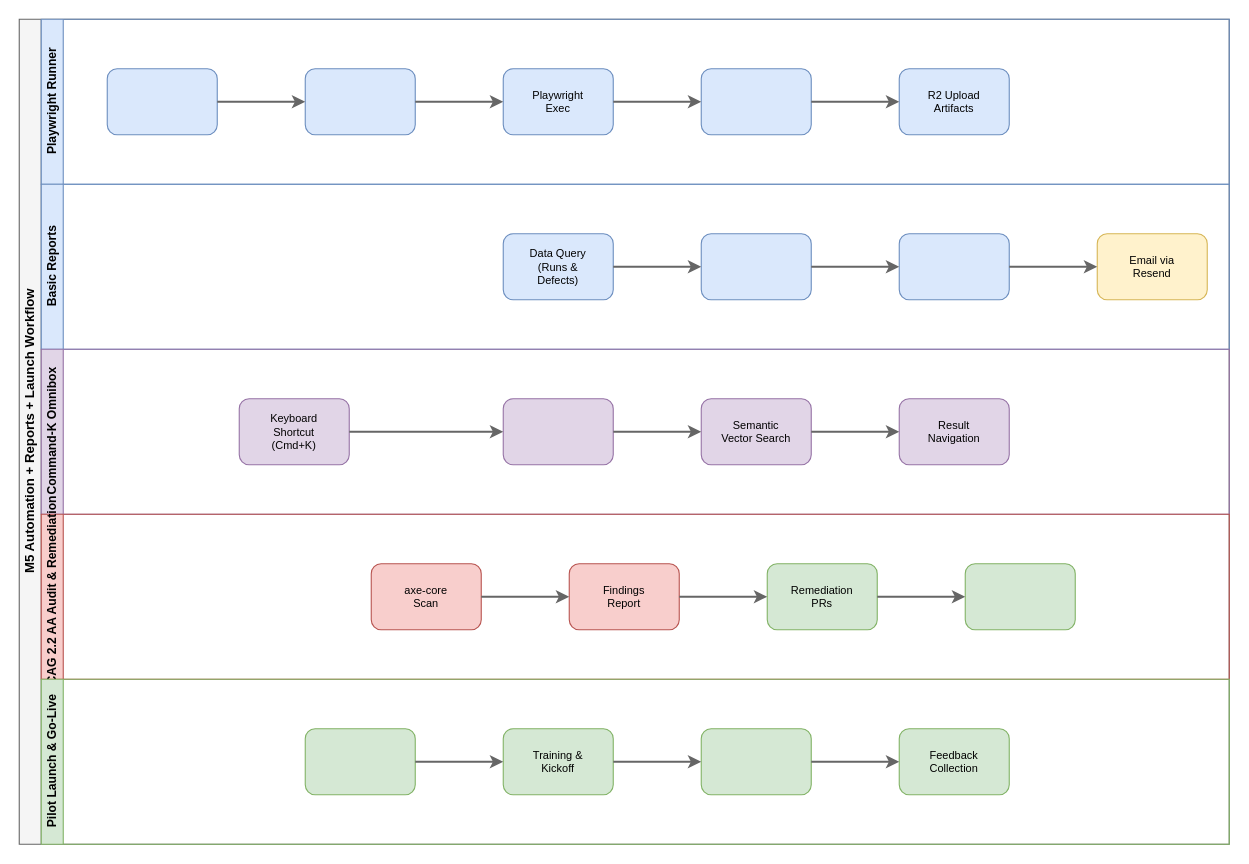
Image size: 1249x864. Some labels were removed from this diagram. The centre of each missing label's shape, as x and y in pixels:
"Automation Spec Parse" belongs at [359,101].
"Capture (Screenshot + HAR + Logs)" belongs at [755,101].
"Global Search (PG Full-Text + pgVector)" belongs at [557,431].
"Go-Live" belongs at [755,761].
"Onboarding (2–3 Projects)" belongs at [359,761].
"PDF Export" belongs at [953,266].
"Re-Audit & Sign-Off" belongs at [1019,596].
"Template Render (3 Dashboards)" belongs at [755,266].
"Test Spec (JSON/TS)" belongs at [161,101].
